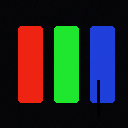4 line_v: (97, 80, 99, 116)
